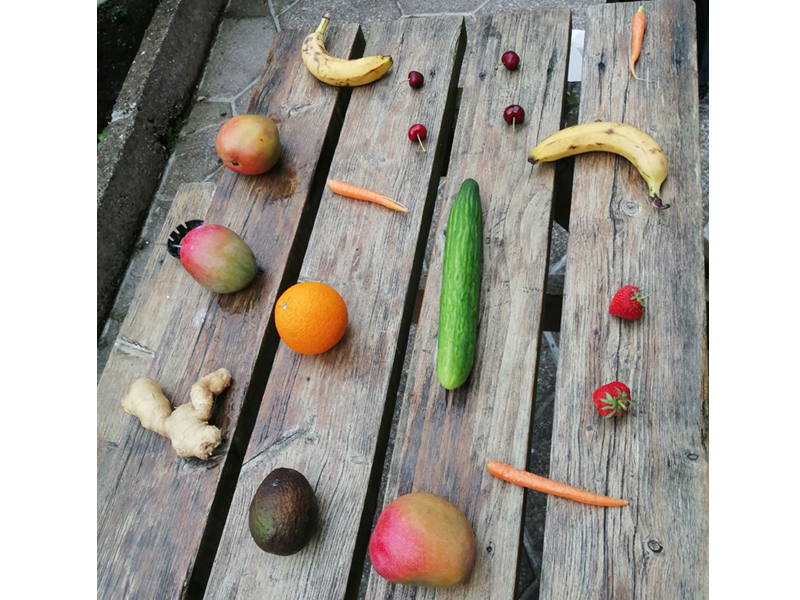avocado: (242, 462, 330, 562)
banana: (520, 119, 675, 211), (298, 14, 397, 87)
carrot: (483, 450, 632, 521), (324, 170, 411, 225), (623, 4, 657, 84)
cherry: (487, 40, 532, 80), (396, 64, 435, 97), (402, 121, 435, 159), (497, 102, 534, 134)
cucumber: (432, 177, 487, 393)
ginger: (112, 359, 237, 468)
mango: (357, 489, 482, 594), (175, 216, 264, 298), (210, 106, 288, 178)
orange: (267, 278, 354, 361)
strawberry: (603, 280, 654, 324), (588, 380, 636, 424)
